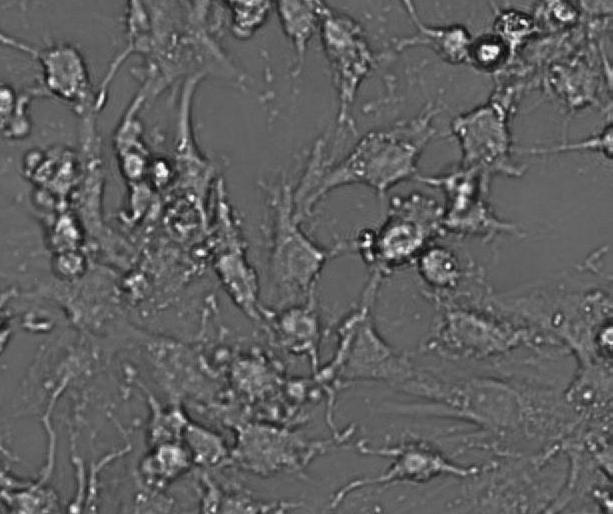Dead: (140, 438, 195, 486), (369, 215, 425, 262), (418, 247, 470, 290), (427, 20, 474, 63), (466, 31, 510, 71), (47, 210, 86, 247), (46, 246, 90, 275), (116, 144, 149, 179), (149, 152, 179, 190), (592, 316, 613, 360), (547, 3, 584, 27)
